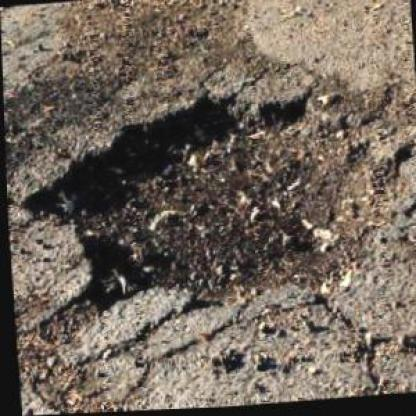pothole: (13, 78, 414, 324)
